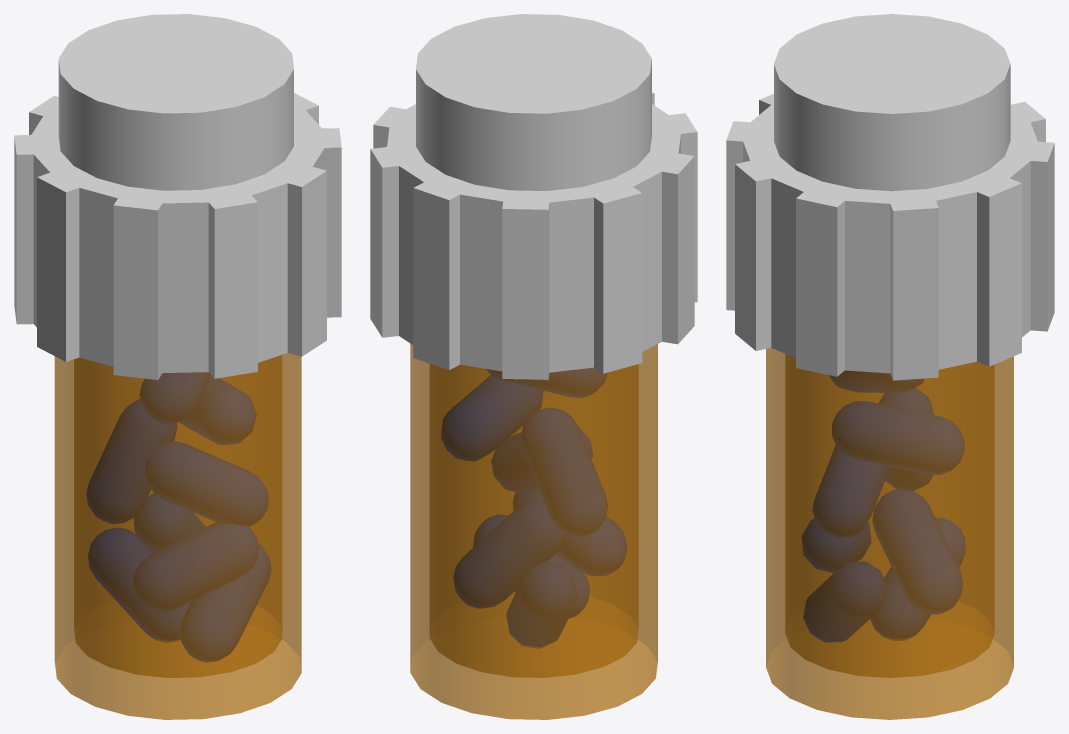
The model's file is pill_bottle_v3.fbx.
3 views of the same model, side by side, from view 1: azimuth 30°, elevation 25°; view 2: azimuth 150°, elevation 25°; view 3: azimuth 270°, elevation 25° (orthographic).
Visible parts, largest first — view 1: pill_bottle_outerwall, pill_bottle_lowercap, pill_bottle_innerwall, pill_bottle_uppercap, pill4, pill5, pill6, pill2, pill1, pill7, pill8, pill3; view 2: pill_bottle_outerwall, pill_bottle_lowercap, pill_bottle_innerwall, pill_bottle_uppercap, pill6, pill3, pill7, pill1, pill4, pill5, pill8, pill2; view 3: pill_bottle_outerwall, pill_bottle_lowercap, pill_bottle_innerwall, pill_bottle_uppercap, pill7, pill3, pill2, pill5, pill1, pill4, pill6, pill8.
Part boxes in pixels (bbox=[...]): pill_bottle_outerwall: bbox=[54, 353, 301, 719]; pill_bottle_lowercap: bbox=[14, 93, 341, 379]; pill_bottle_innerwall: bbox=[74, 355, 281, 677]; pill_bottle_uppercap: bbox=[58, 14, 293, 190]; pill4: bbox=[133, 522, 258, 612]; pill5: bbox=[144, 441, 268, 526]; pill6: bbox=[86, 399, 176, 523]; pill2: bbox=[180, 544, 271, 661]; pill1: bbox=[88, 528, 189, 642]; pill7: bbox=[179, 376, 256, 444]; pill8: bbox=[139, 372, 210, 424]; pill3: bbox=[134, 493, 205, 553]; pill_bottle_outerwall: bbox=[410, 343, 657, 719]; pill_bottle_lowercap: bbox=[370, 92, 697, 379]; pill_bottle_innerwall: bbox=[430, 364, 638, 677]; pill_bottle_uppercap: bbox=[416, 14, 651, 190]; pill6: bbox=[521, 408, 607, 536]; pill3: bbox=[453, 500, 566, 608]; pill7: bbox=[441, 375, 543, 461]; pill1: bbox=[506, 562, 577, 648]; pill4: bbox=[513, 491, 626, 575]; pill5: bbox=[491, 427, 592, 493]; pill8: bbox=[486, 368, 607, 397]; pill2: bbox=[473, 514, 589, 618]; pill_bottle_outerwall: bbox=[766, 348, 1013, 719]; pill_bottle_lowercap: bbox=[726, 93, 1054, 380]; pill_bottle_innerwall: bbox=[785, 354, 994, 677]; pill_bottle_uppercap: bbox=[774, 14, 1010, 191]; pill7: bbox=[832, 401, 964, 474]; pill3: bbox=[872, 489, 962, 614]; pill2: bbox=[803, 561, 887, 641]; pill5: bbox=[812, 445, 889, 538]; pill1: bbox=[870, 518, 965, 640]; pill4: bbox=[802, 518, 871, 572]; pill6: bbox=[879, 388, 933, 490]; pill8: bbox=[829, 370, 923, 392].
Bounding box in the file's own units: 9.6 × 19.44 × 9.6.
